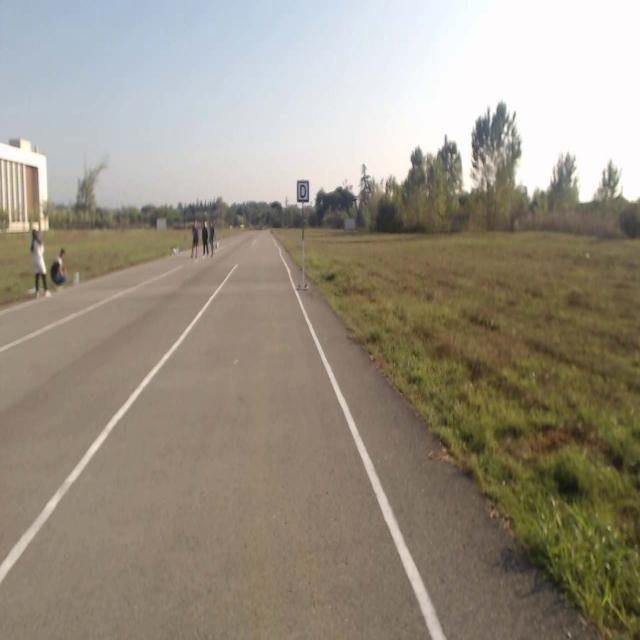durak: (296, 180, 310, 203)
